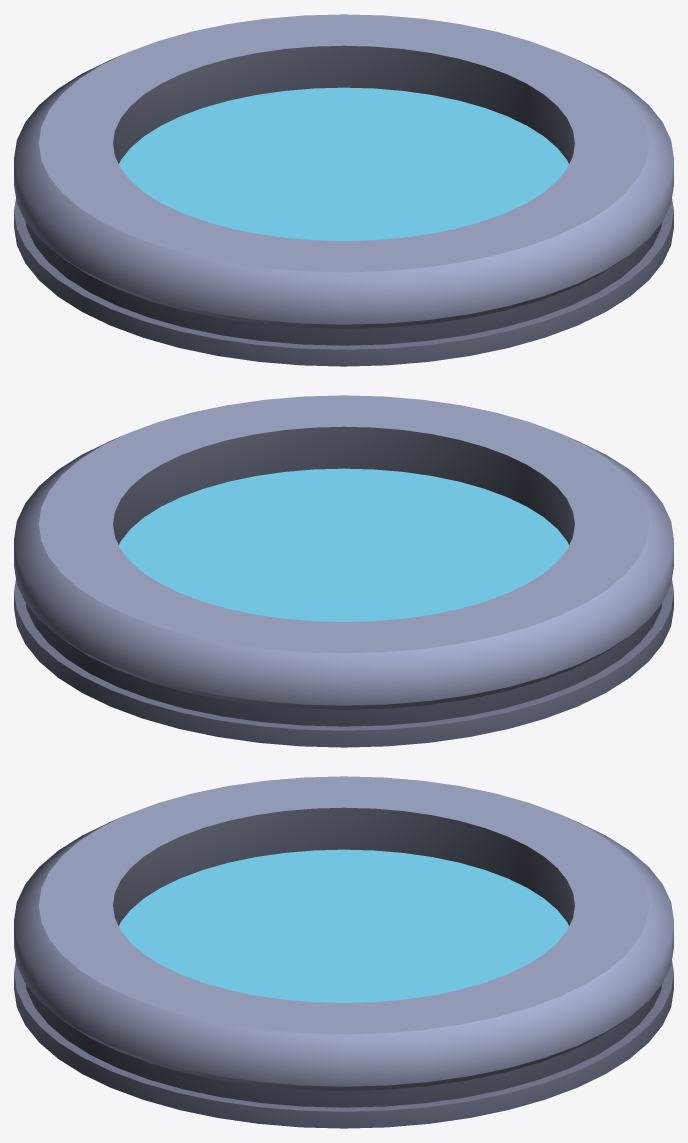
File: T_fountain-round.glb
3 renders of one model, top to bottom at view 1: azimuth 30°, elevation 25°; view 2: azimuth 150°, elevation 25°; view 3: azimuth 270°, elevation 25°, orthographic.
Parts seen in each view (by area): view 1: fountain-round, (%ignore); view 2: fountain-round, (%ignore); view 3: fountain-round, (%ignore).
Boxes of the visible parts, x1,y1,x2,y2 form: fountain-round: [14, 14, 673, 366]; (%ignore): [119, 87, 568, 240]; fountain-round: [14, 395, 673, 747]; (%ignore): [119, 468, 568, 621]; fountain-round: [14, 776, 673, 1128]; (%ignore): [119, 849, 568, 1002].
Bounding box in the file's own units: 2 × 0.28 × 2.
